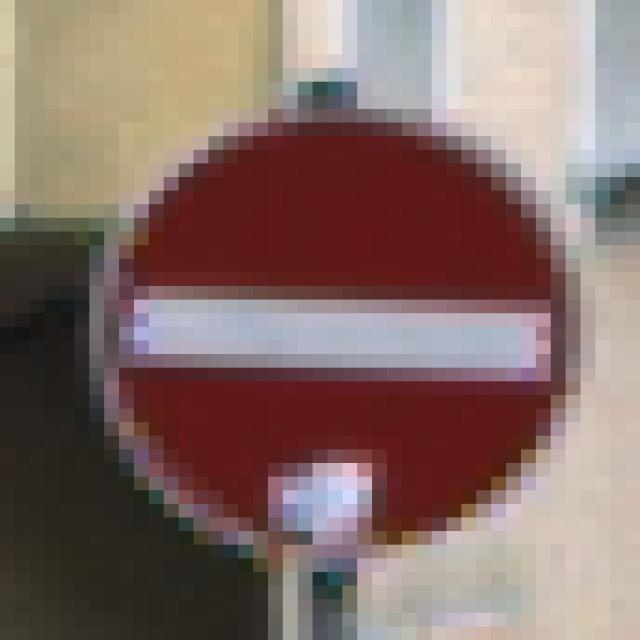No Entry: (90, 83, 567, 559)
